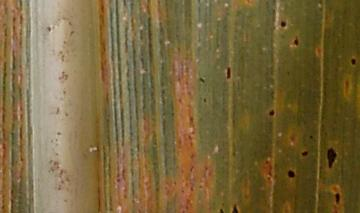tarspot: (326, 147, 337, 168), (286, 168, 296, 180), (224, 66, 232, 80), (293, 34, 300, 47), (334, 191, 340, 204), (197, 76, 206, 84), (300, 149, 309, 157), (232, 204, 239, 213), (267, 109, 276, 116), (350, 58, 357, 66), (279, 22, 287, 28), (202, 97, 208, 104), (218, 206, 224, 213), (309, 133, 314, 139)
